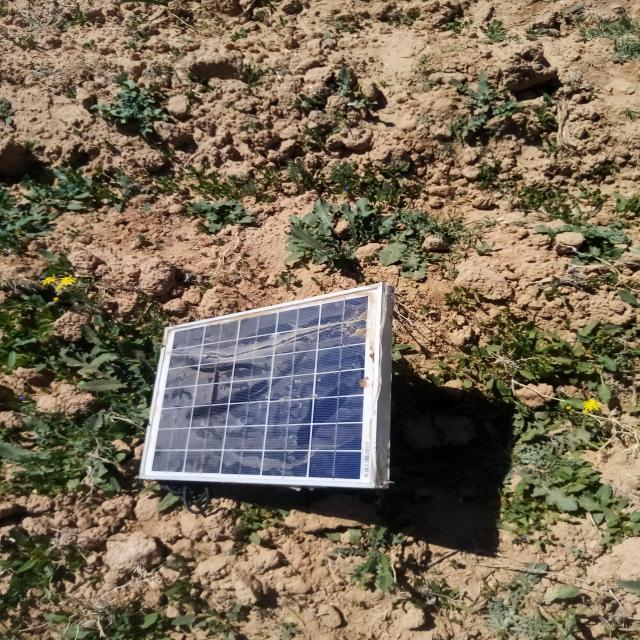faulty: (139, 285, 381, 486)
